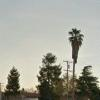Palm tree: (56, 21, 95, 81)
